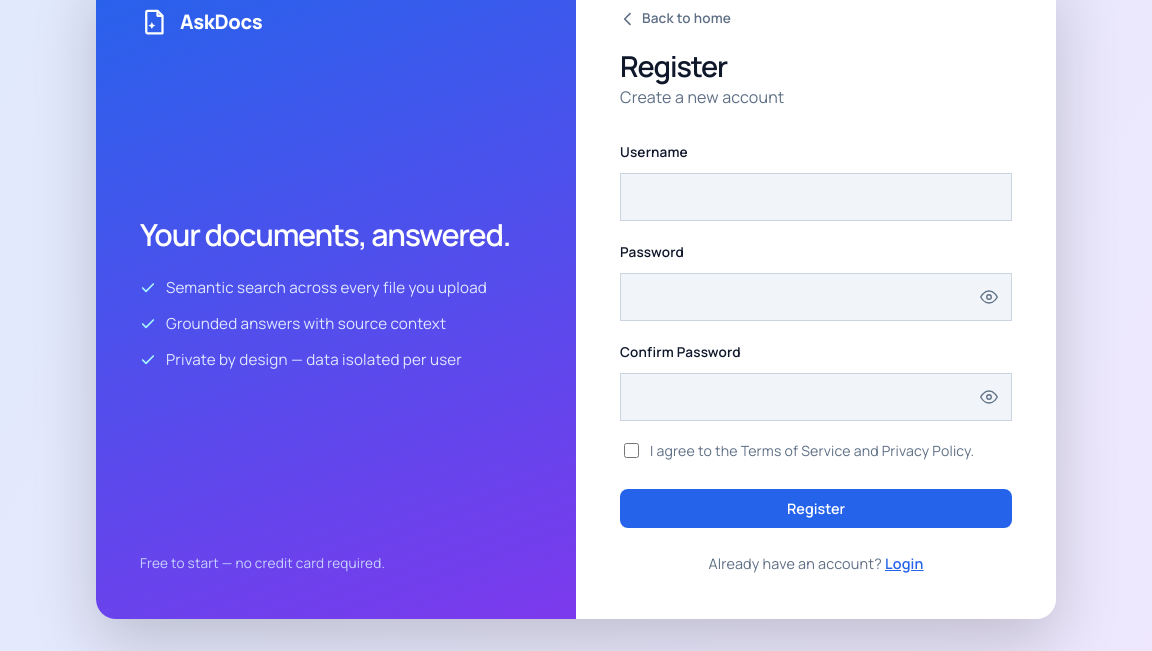
Test case: RegisterPage › blocks submission until the terms checkbox is accepted
Type "alice" into the field labelled "Username" at (816, 197), box 620,173 -> 1012,221
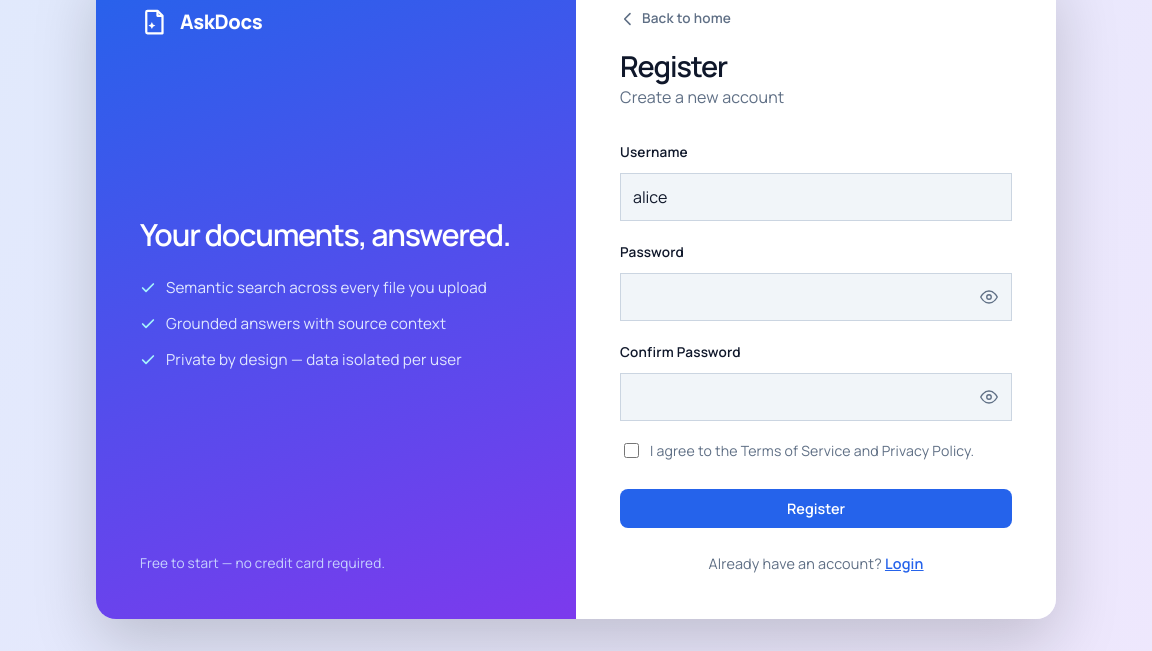
Type "s3cret123" into the password field labelled "Password" at (816, 297), box 620,273 -> 1012,321
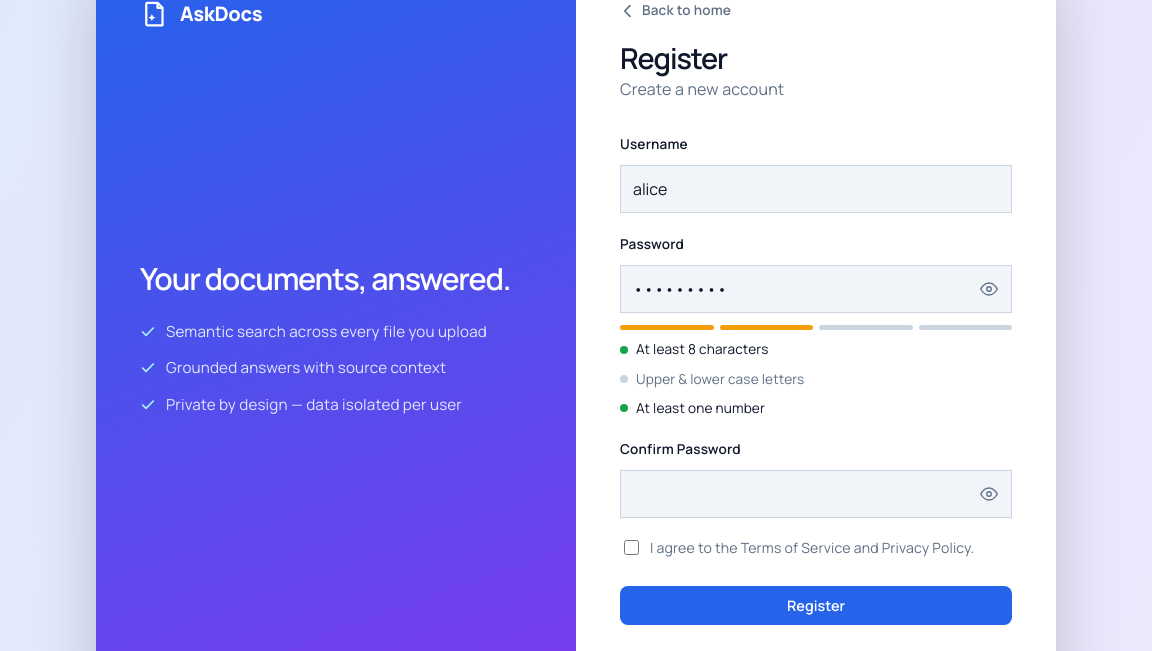
Type "s3cret123" into the password field labelled "Confirm Password" at (816, 494), box 620,470 -> 1012,518
(page scrolled)
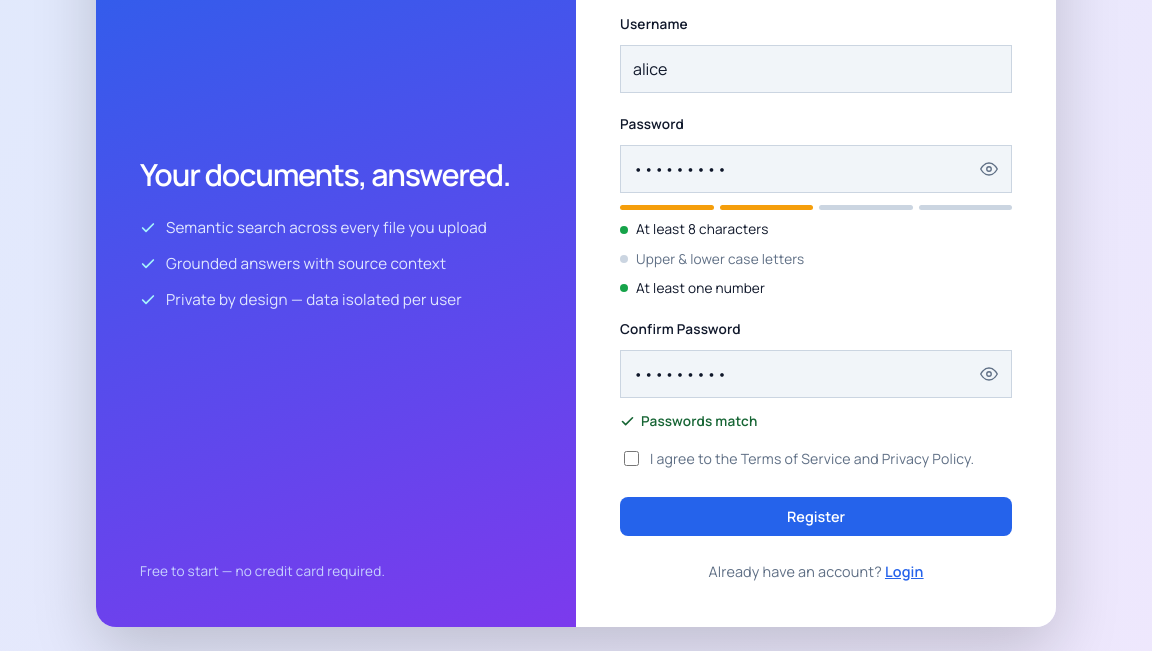
Click the button "Register" at (816, 517), box 620,497 -> 1012,536
(page scrolled)
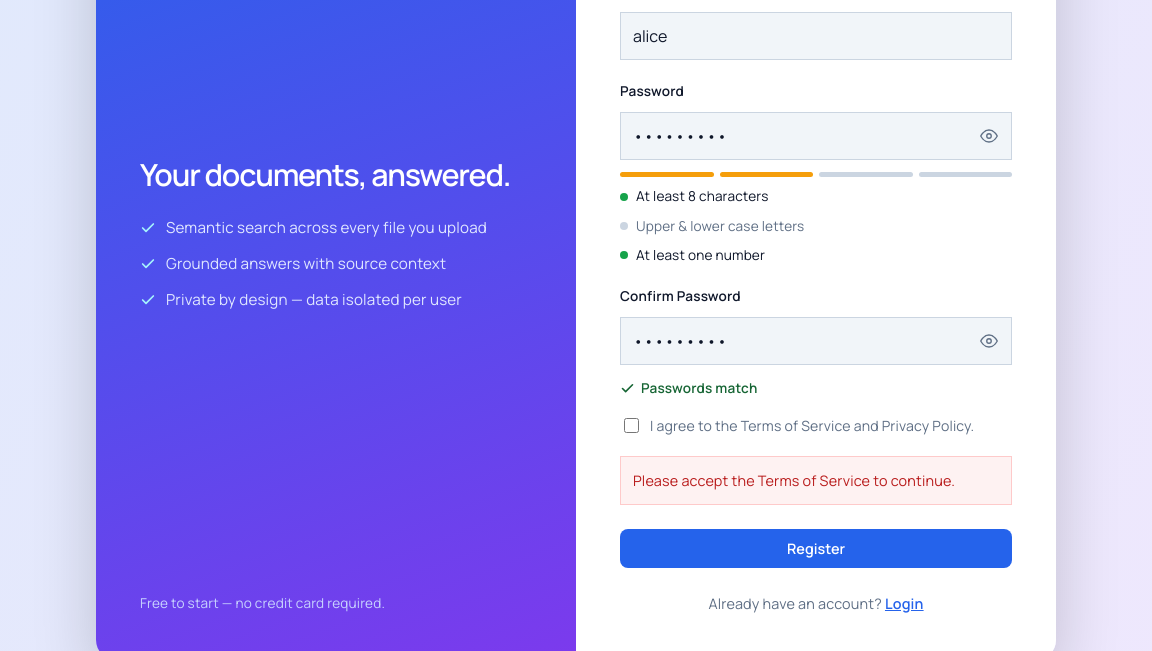
Now the text "Please accept the Terms of Service to continue." is shown, box 620,456 -> 1012,505
